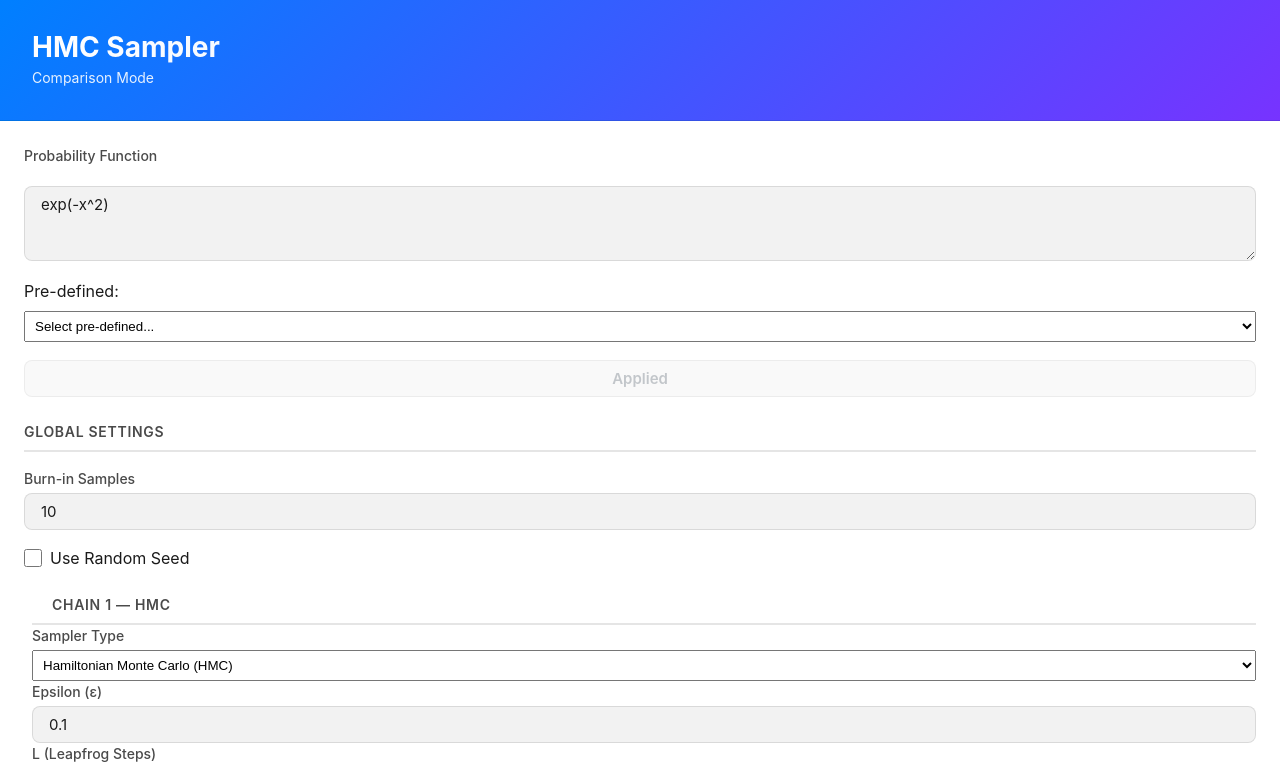
Controls Component › Apply Button State › should enable Apply button when draft differs from applied value
Expected: the button "Applied" is disabled, x1=24 y1=360 x2=1256 y2=397
Note: Make a change
Replace the text in the text box with placeholder "e.g., exp(-(x^2 + y^2)/2)" with "exp(-x^2 - y^2)": (640, 223) x1=24 y1=186 x2=1256 y2=261
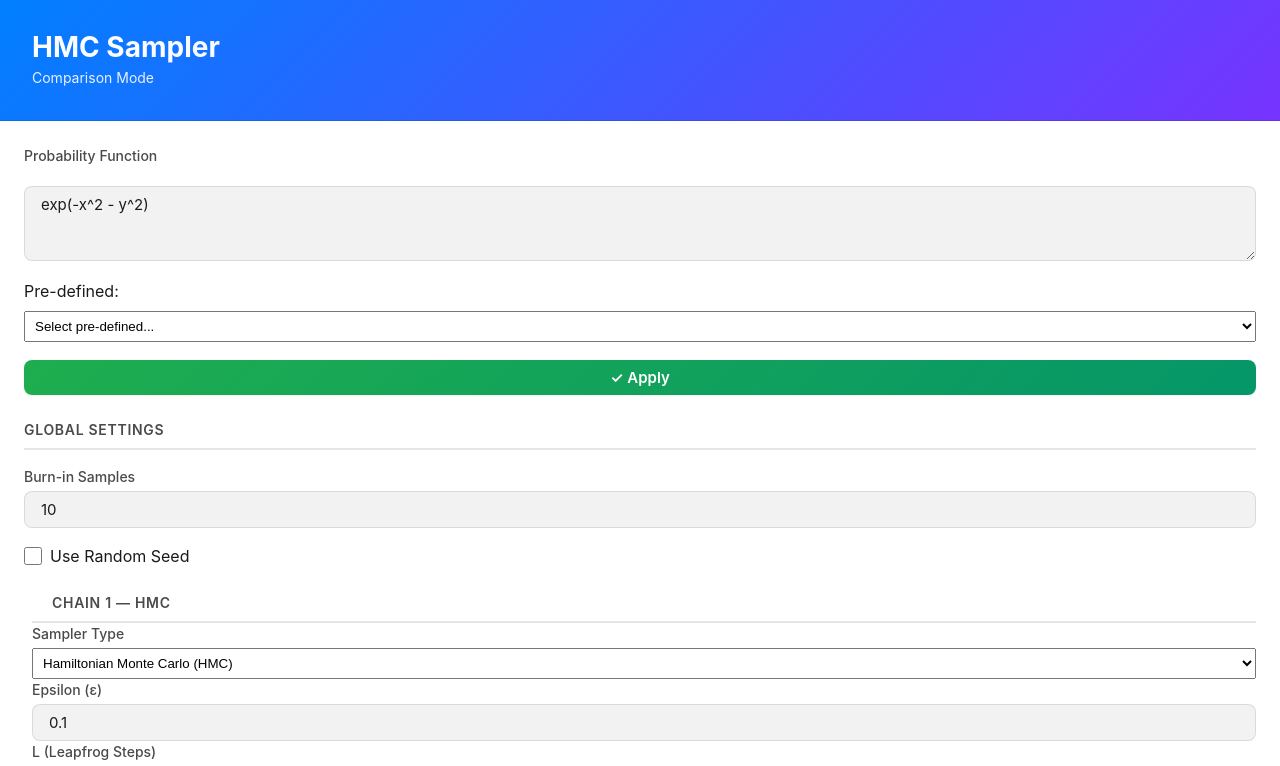
Expected: the button "✓ Apply" is enabled, x1=24 y1=360 x2=1256 y2=395
